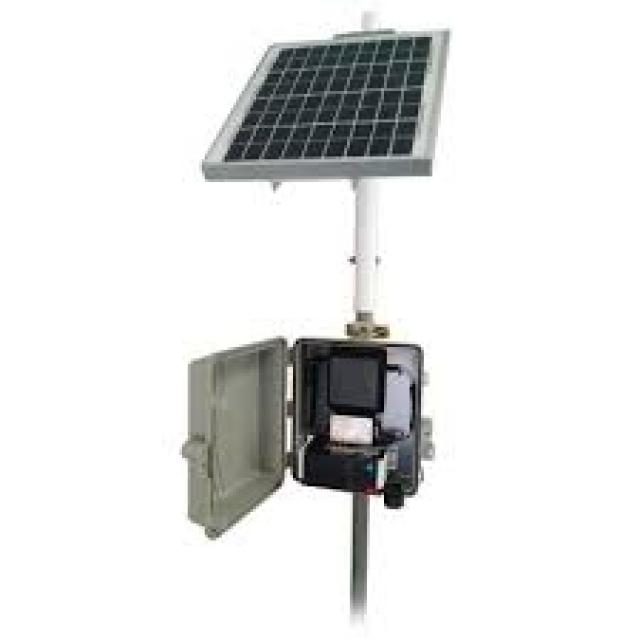no faulty: (218, 33, 439, 163)
